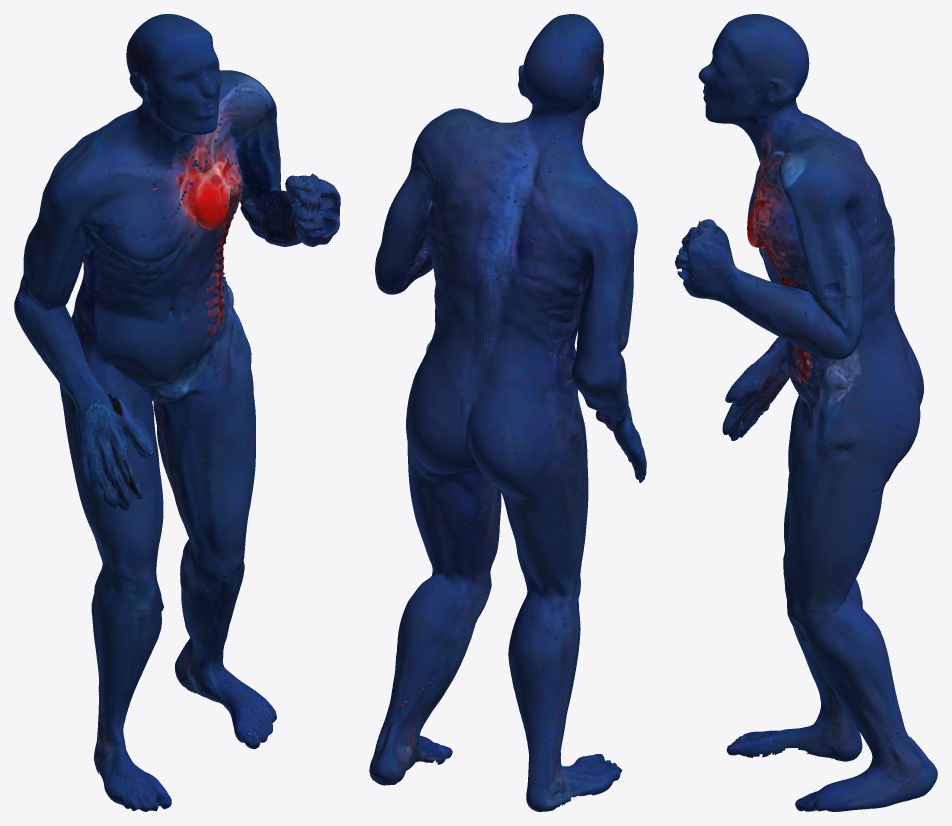
File: chest-pain.glb
3 renders of one model, left to right at view 1: azimuth 30°, elevation 25°; view 2: azimuth 150°, elevation 25°; view 3: azimuth 270°, elevation 25°, orthographic. The views are drawn at different scales.
Visible parts, largest first — view 1: ChestPain; view 2: ChestPain; view 3: ChestPain.
Part boxes in pixels (left/top/right/bottom): ChestPain: left=14, top=14, right=340, bottom=811; ChestPain: left=369, top=14, right=646, bottom=811; ChestPain: left=675, top=14, right=937, bottom=811.
Bounding box in the file's own units: 0.702 × 2 × 0.6339.
1 material, 1 textured.
